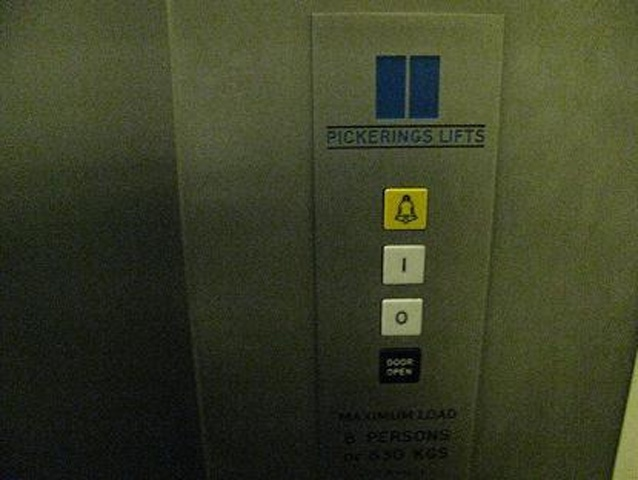0: (377, 295, 424, 339)
1: (379, 241, 427, 287)
alarm: (381, 184, 430, 231)
text_door open: (375, 342, 424, 386)
